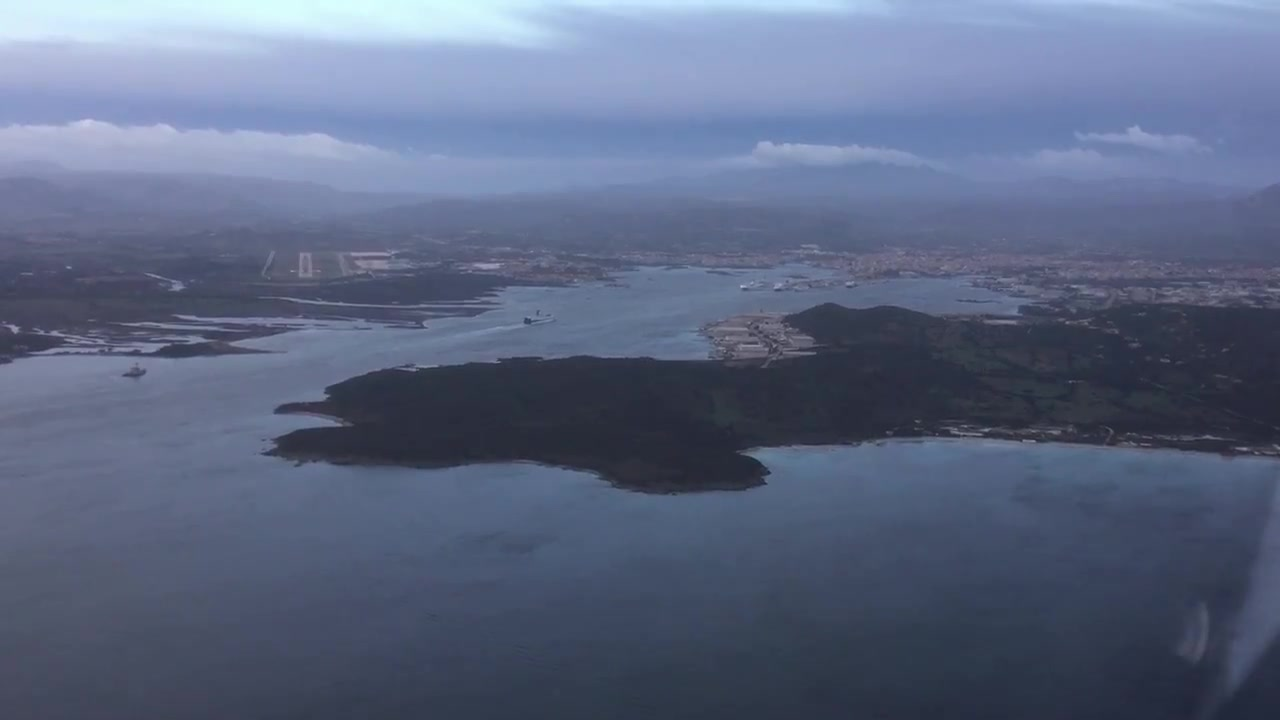runway: (298, 251, 312, 280)
